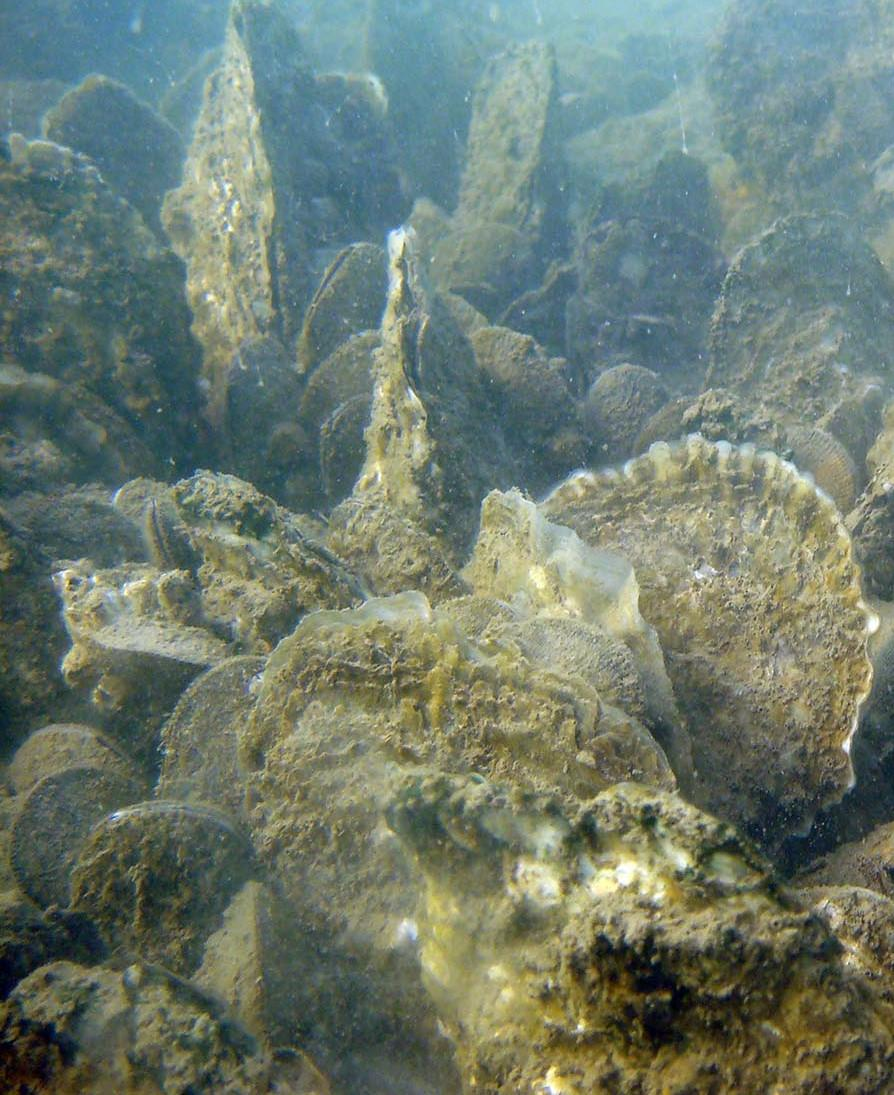Oyster- Indeterminate: (564, 216, 729, 402), (297, 242, 389, 380), (318, 391, 372, 494), (149, 499, 204, 584)
Oyster-Closed: (240, 593, 682, 1095), (384, 772, 894, 1095), (534, 437, 883, 851), (0, 130, 209, 482), (465, 492, 691, 792), (160, 0, 318, 423), (353, 228, 519, 573), (708, 211, 894, 499), (704, 0, 894, 209), (0, 956, 270, 1095), (71, 798, 267, 974), (175, 477, 369, 652), (43, 74, 191, 252), (457, 39, 572, 258), (472, 325, 597, 502), (8, 764, 150, 912), (194, 882, 319, 1049), (155, 656, 268, 819), (230, 339, 327, 513), (9, 725, 149, 794), (588, 365, 671, 466), (497, 267, 583, 362), (299, 332, 383, 429), (783, 432, 854, 512), (634, 395, 698, 456), (113, 480, 174, 535)
Oyster-Open: (449, 284, 504, 330)
